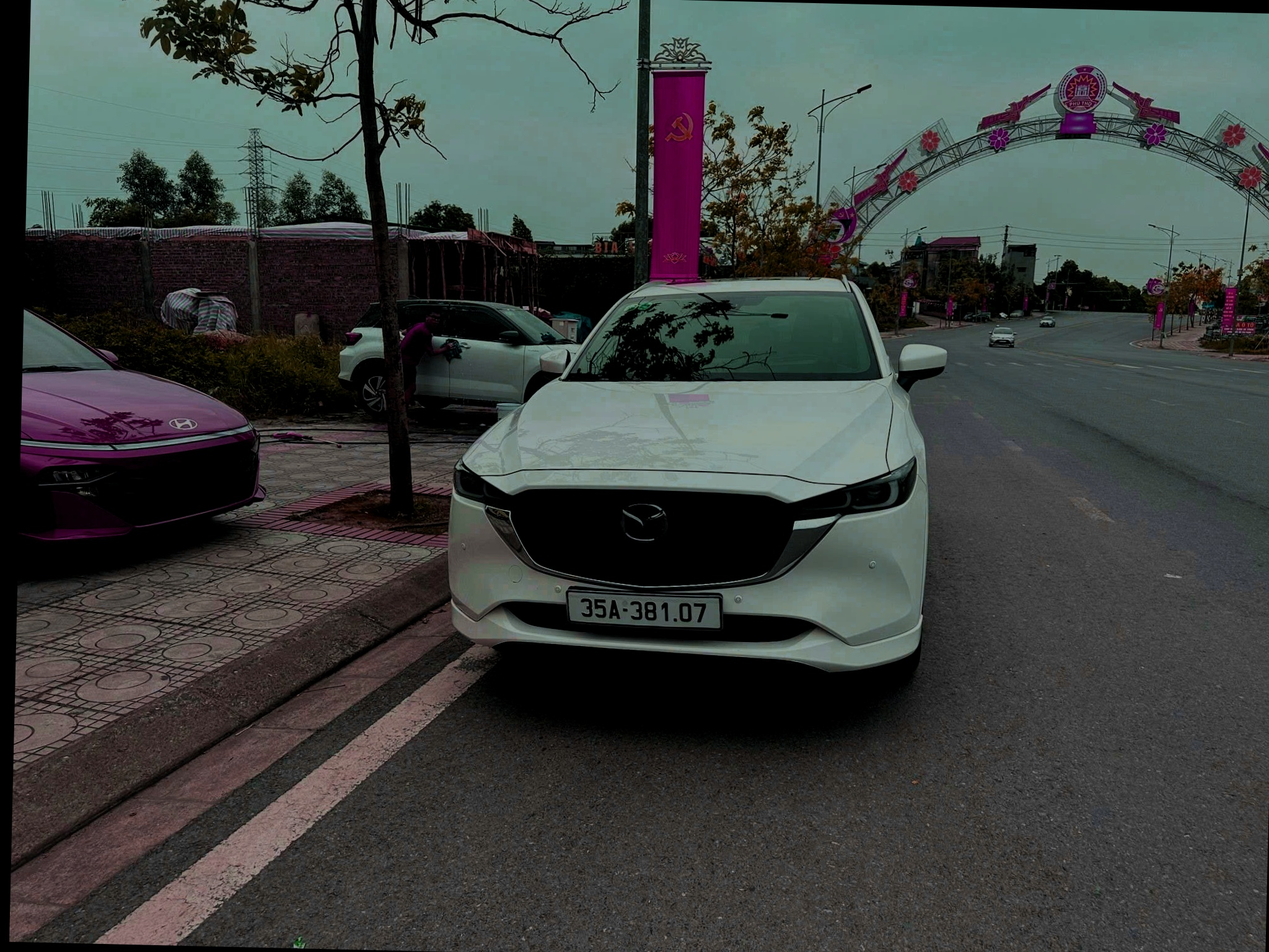Bien-so: (531, 573, 691, 627)
